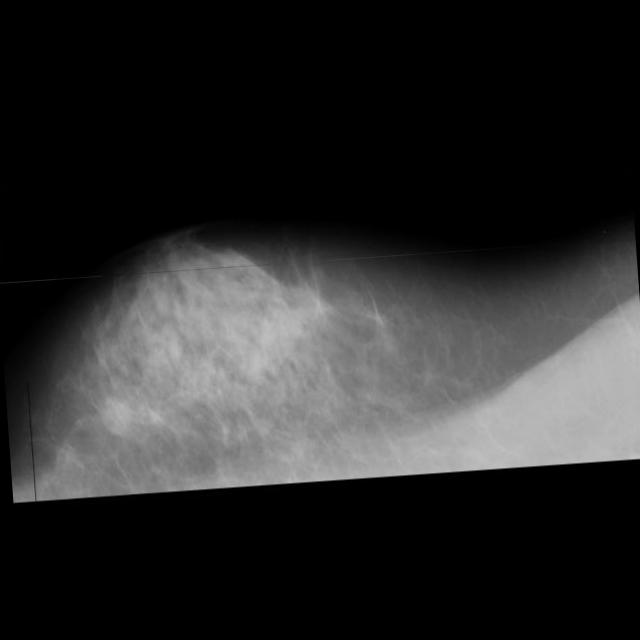SPIC: (96, 394, 138, 436)
